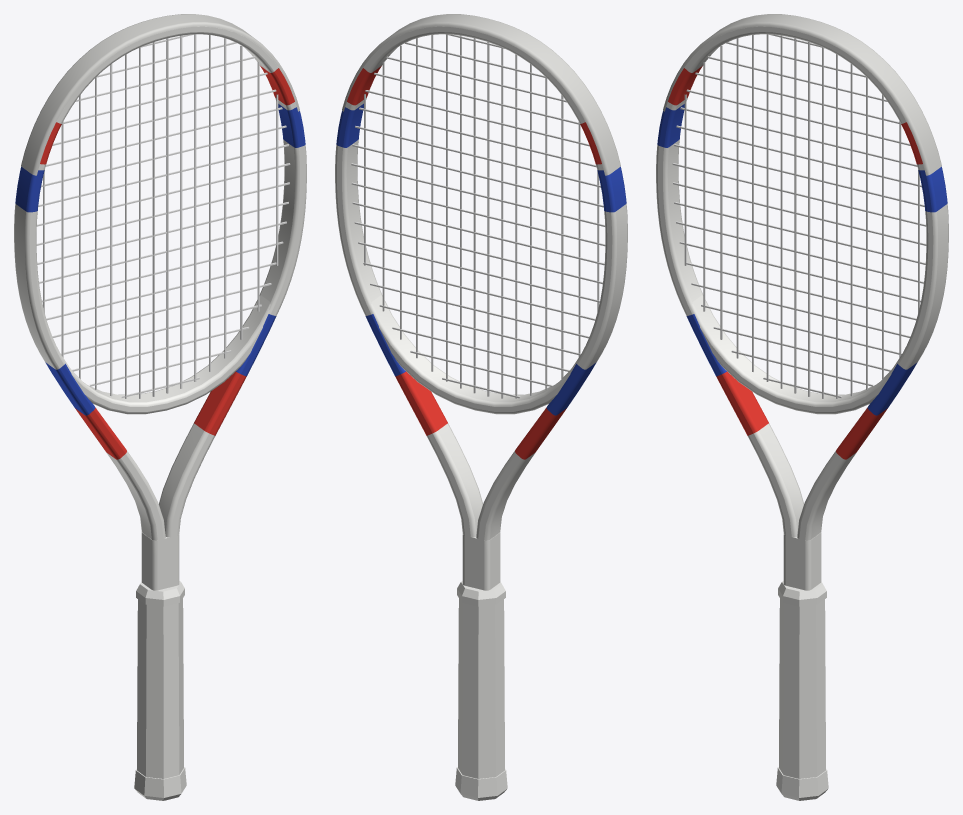
File: tecnifibre-tfight-315s-2025.glb
3 renders of one model, left to right at view 1: azimuth 30°, elevation 25°; view 2: azimuth 150°, elevation 25°; view 3: azimuth 330°, elevation 25°, orthographic.
Parts seen in each view (by area): view 1: frame, strings_mains, strings_crosses, grip, bumper, butt_cap, collar; view 2: frame, strings_mains, strings_crosses, grip, bumper, butt_cap, collar; view 3: frame, strings_mains, strings_crosses, grip, bumper, butt_cap, collar.
Boxes of the visible parts, bbox=[...] form: frame: bbox=[14, 26, 306, 590]; strings_mains: bbox=[43, 34, 278, 398]; strings_crosses: bbox=[36, 34, 290, 397]; grip: bbox=[137, 598, 183, 778]; bumper: bbox=[21, 14, 299, 175]; butt_cap: bbox=[134, 767, 186, 800]; collar: bbox=[136, 581, 184, 606]; frame: bbox=[335, 26, 627, 590]; strings_mains: bbox=[364, 34, 599, 398]; strings_crosses: bbox=[351, 34, 605, 398]; grip: bbox=[458, 598, 504, 778]; bumper: bbox=[342, 14, 620, 175]; butt_cap: bbox=[455, 767, 507, 800]; collar: bbox=[457, 581, 505, 606]; frame: bbox=[656, 26, 948, 590]; strings_mains: bbox=[684, 34, 919, 398]; strings_crosses: bbox=[672, 34, 926, 397]; grip: bbox=[779, 598, 825, 778]; bumper: bbox=[663, 14, 941, 175]; butt_cap: bbox=[776, 767, 828, 800]; collar: bbox=[778, 581, 826, 606].
Size of the model in its own units: 0.2634 by 0.6861 by 0.0396.
